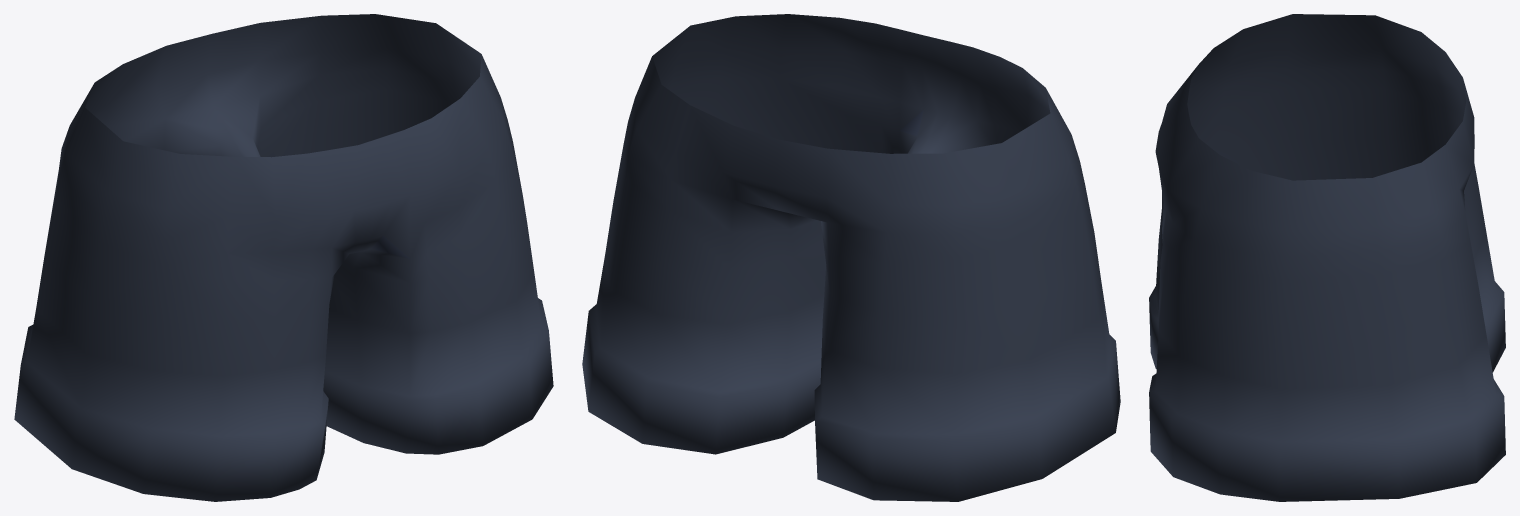
The model's file is sailor-painted-pants.glb.
The picture shows the model from 3 angles, left to right: view 1: azimuth 30°, elevation 25°; view 2: azimuth 150°, elevation 25°; view 3: azimuth 270°, elevation 25°; orthographic projection. The views are drawn at different scales.
Parts seen in each view (by area): view 1: Sailor_pants; view 2: Sailor_pants; view 3: Sailor_pants.
Boxes of the visible parts, x1,y1,x2,y2 form: Sailor_pants: (14, 14, 553, 501); Sailor_pants: (582, 14, 1120, 501); Sailor_pants: (1149, 14, 1505, 501).
Bounding box in the file's own units: 0.9799 × 0.6386 × 0.669.
Materials: 1 (1 with a texture image).
